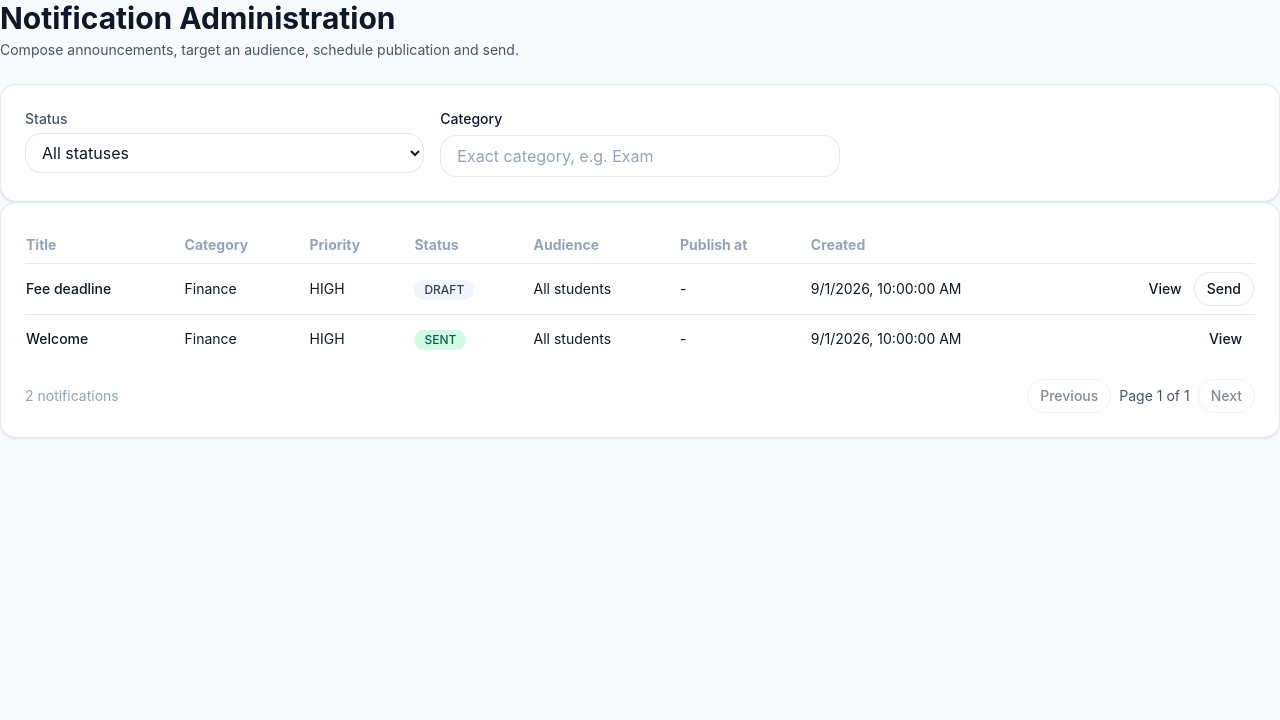
NotificationAdminPage › shows the backend message when a send fails and keeps the dialog open
Step 1. Click the button with aria-label "Send Fee deadline" → click(1224, 289), box [1194,272,1254,306]
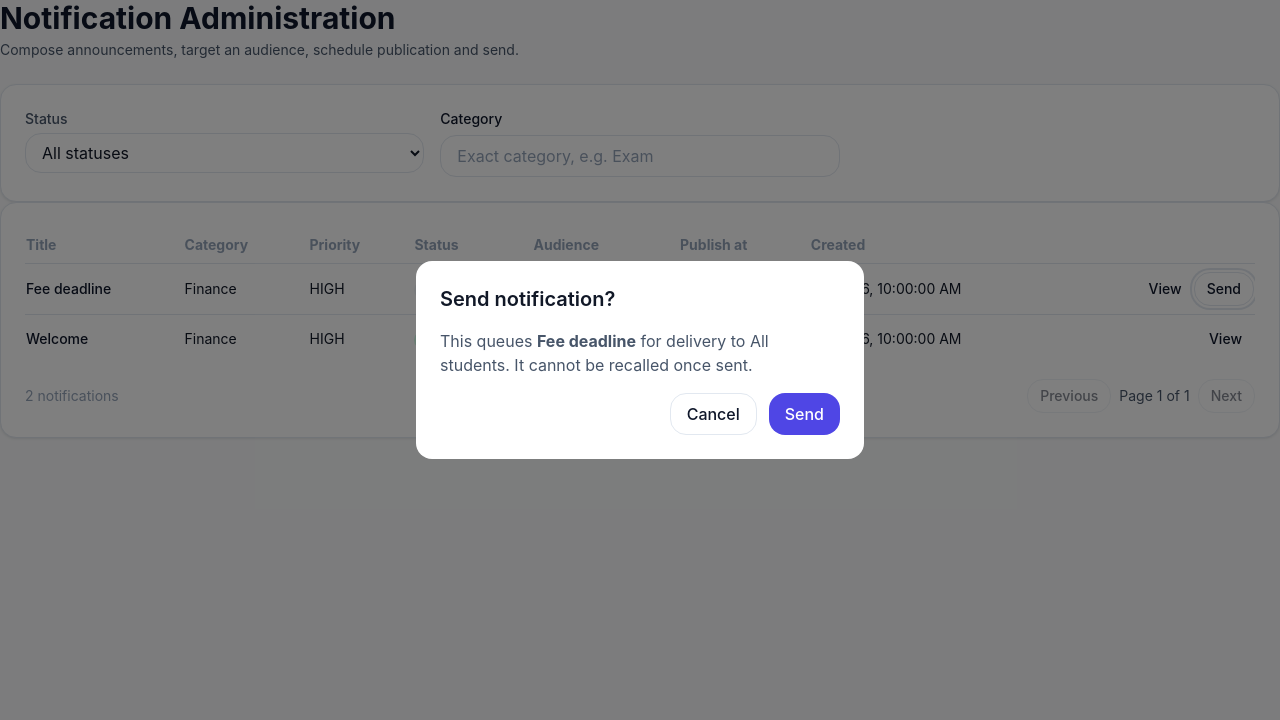
Step 2. Click the button "Send" → click(804, 414), box [769,393,840,435]
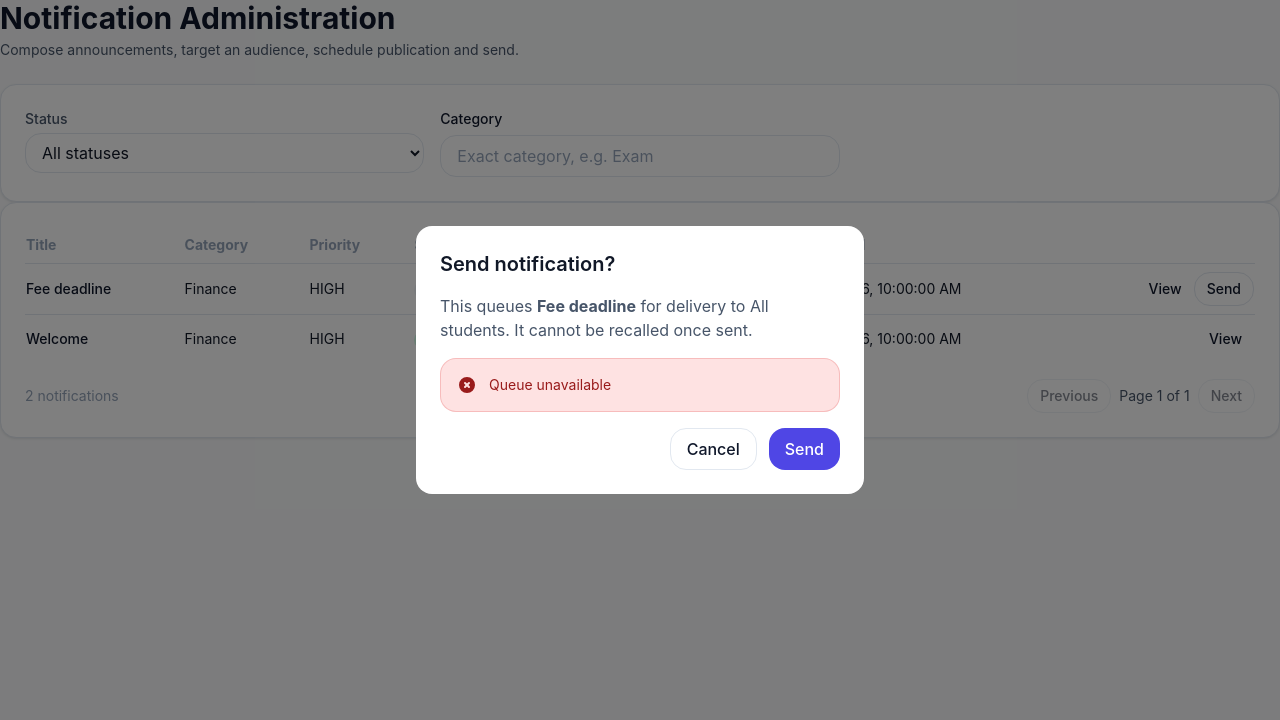
Expected: the text "Queue unavailable" is shown, [489,376,611,393]
